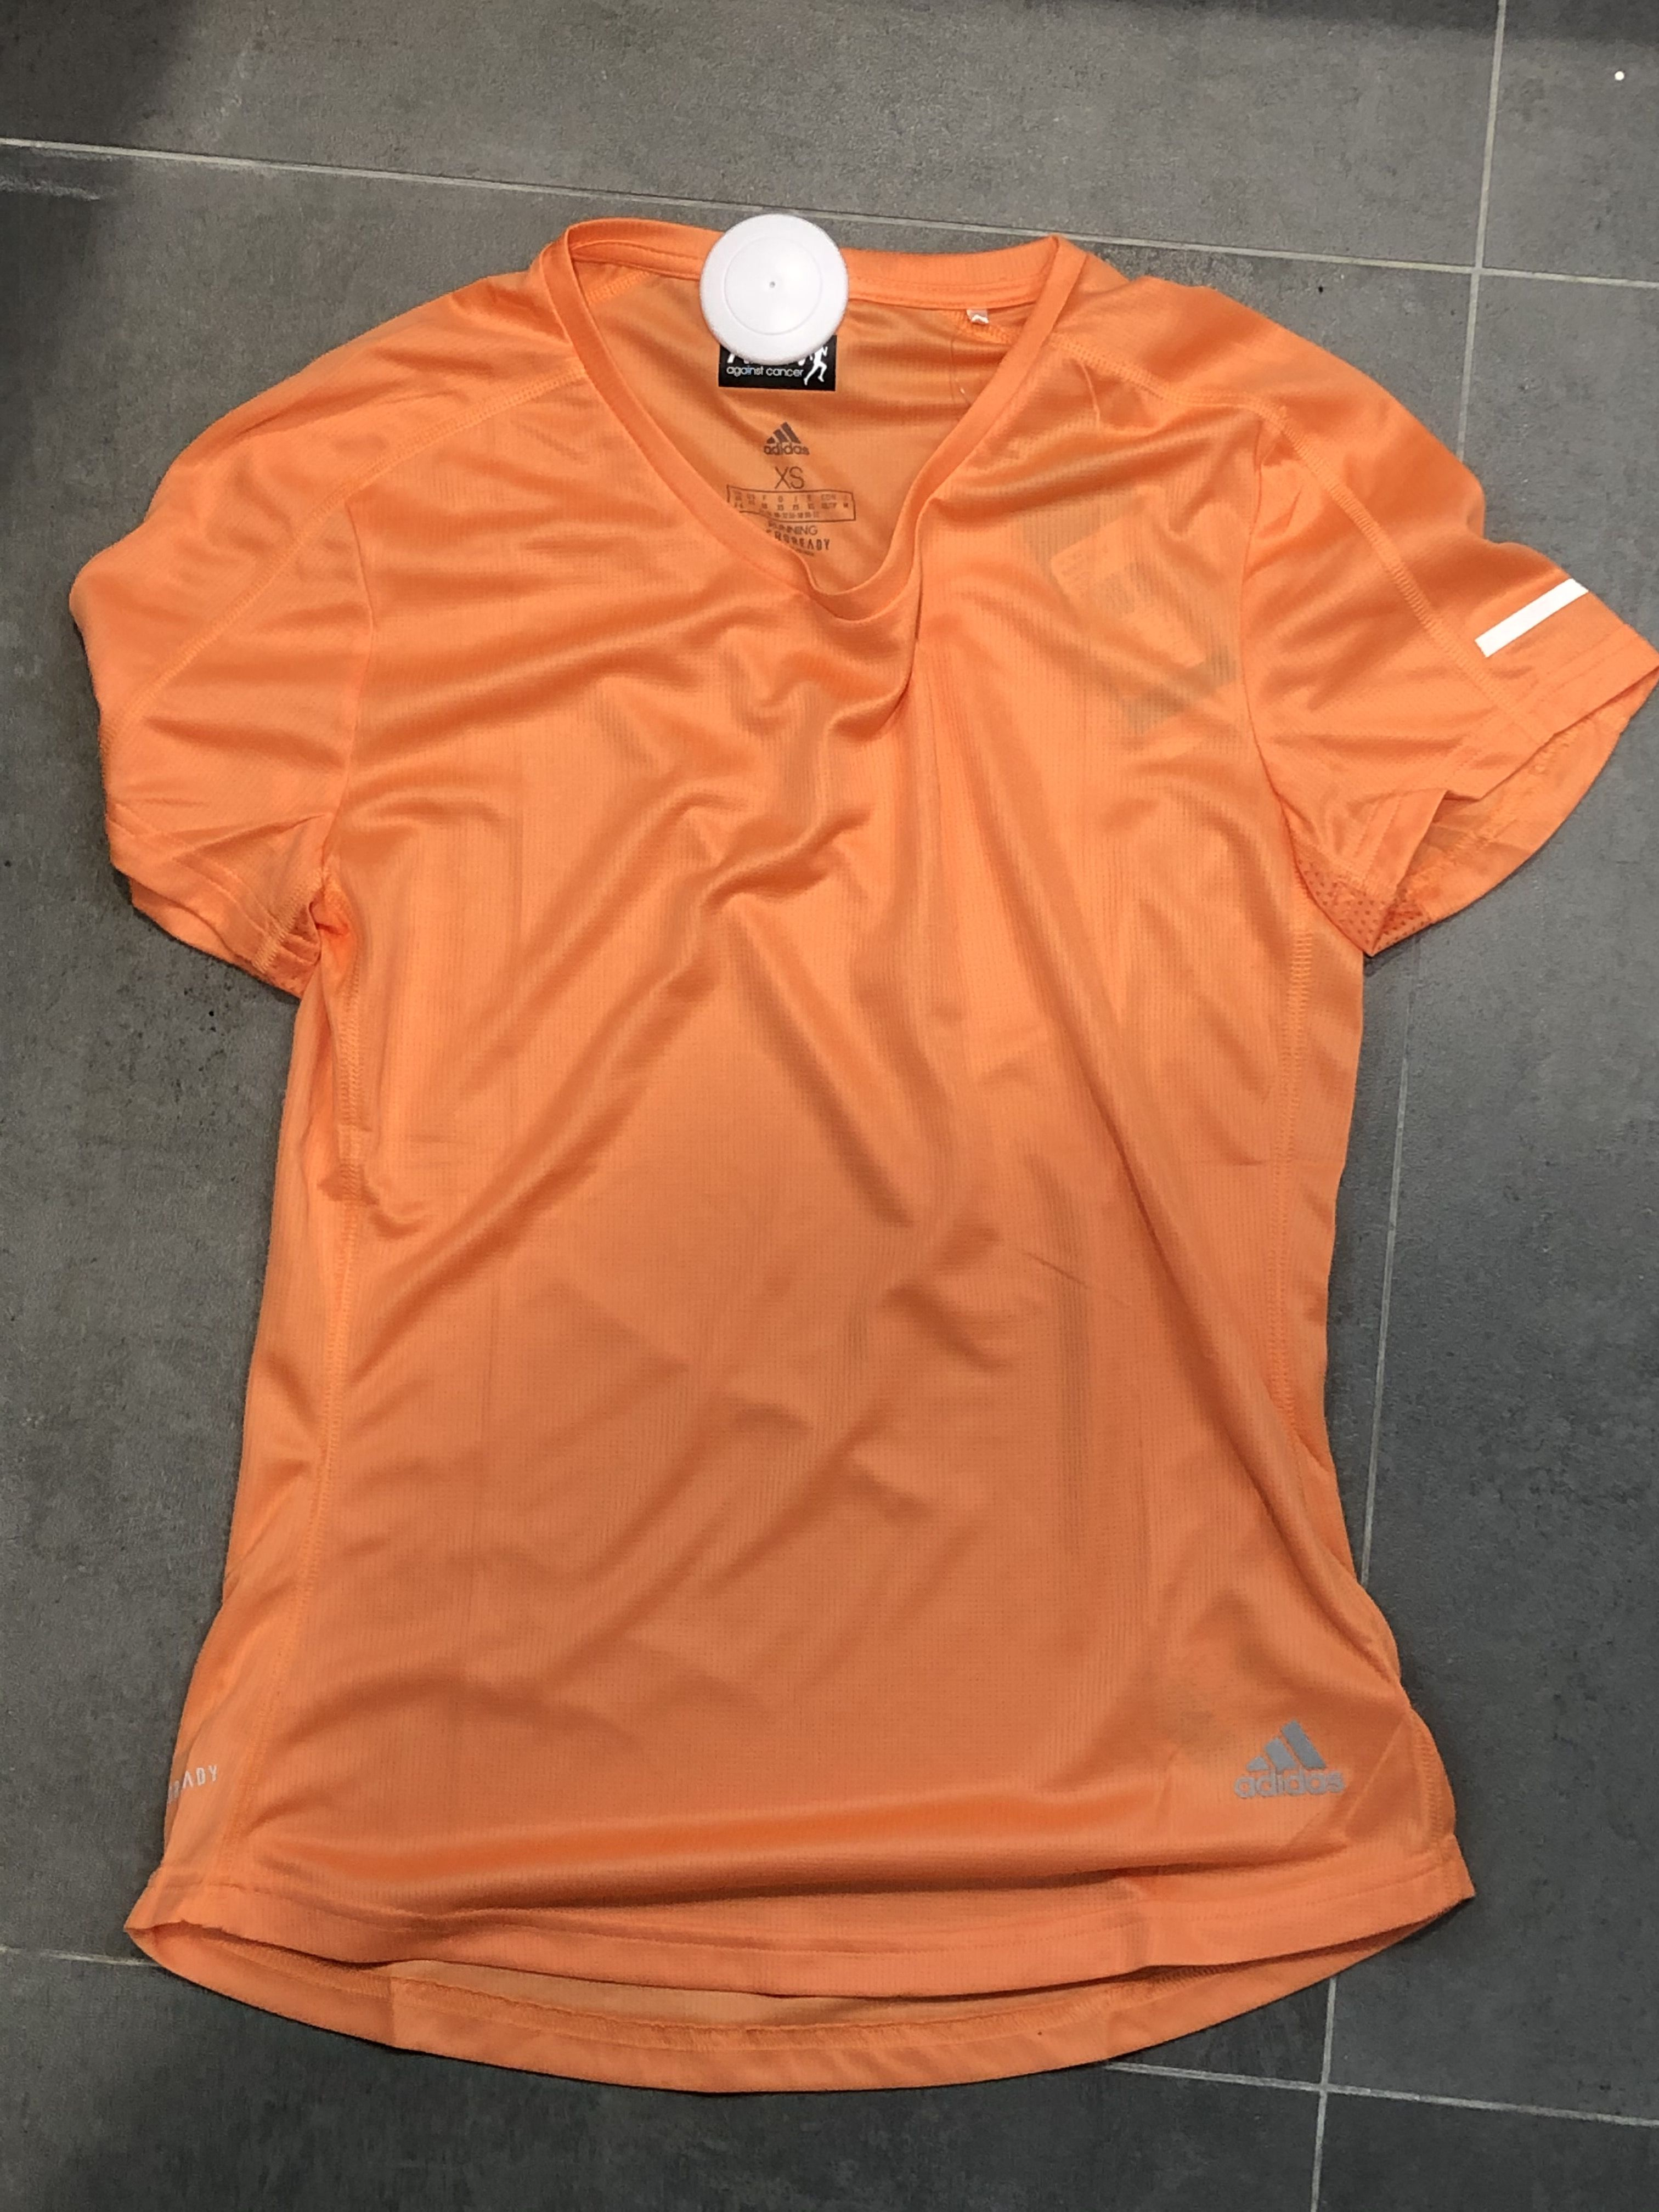clothes: (49, 192, 1659, 2074)
